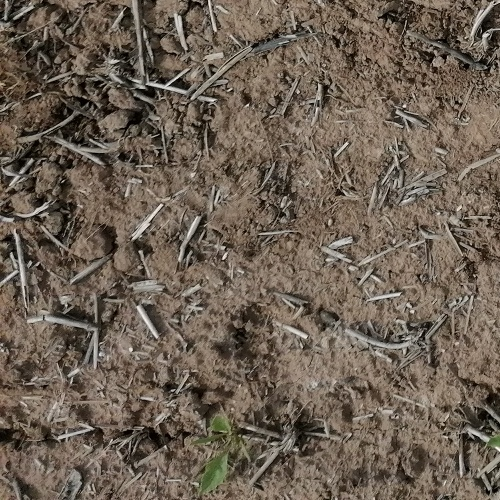beet: (196, 413, 236, 497)
